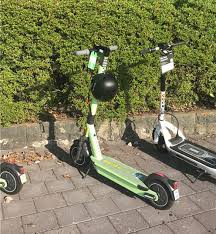kick_board: (69, 45, 179, 210), (144, 41, 216, 170)
kick_handler: (75, 45, 118, 59), (142, 43, 186, 52)
kick_neck: (89, 61, 107, 135), (161, 58, 168, 121)
kick_wheel: (145, 172, 180, 210), (1, 161, 26, 195), (71, 139, 90, 167), (152, 128, 166, 150)
